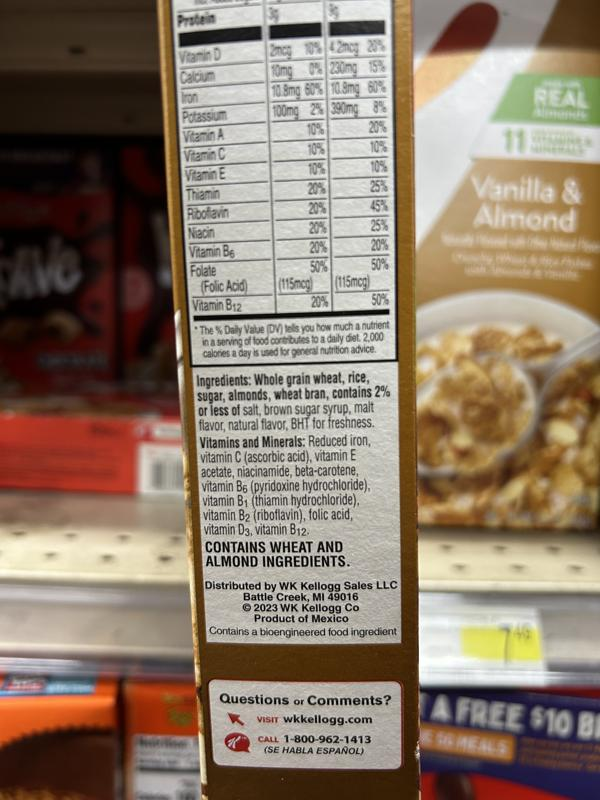ingredients: (193, 370, 397, 434)
